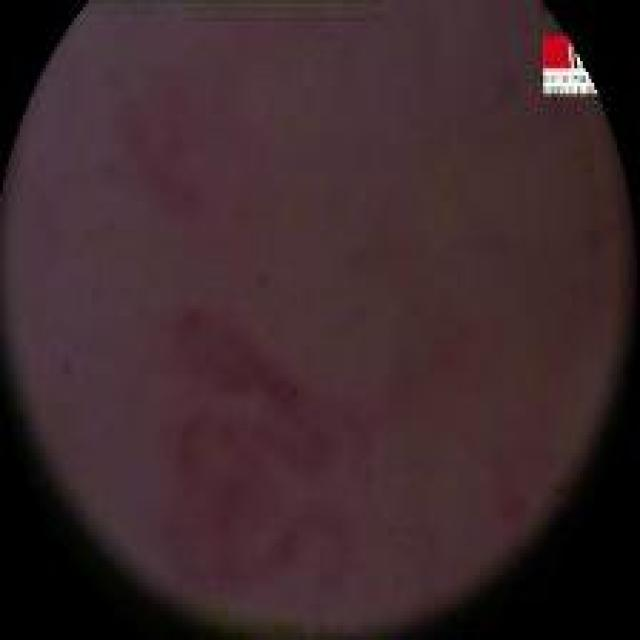blur: (4, 1, 635, 625)
color misalignment: (539, 32, 600, 106)
